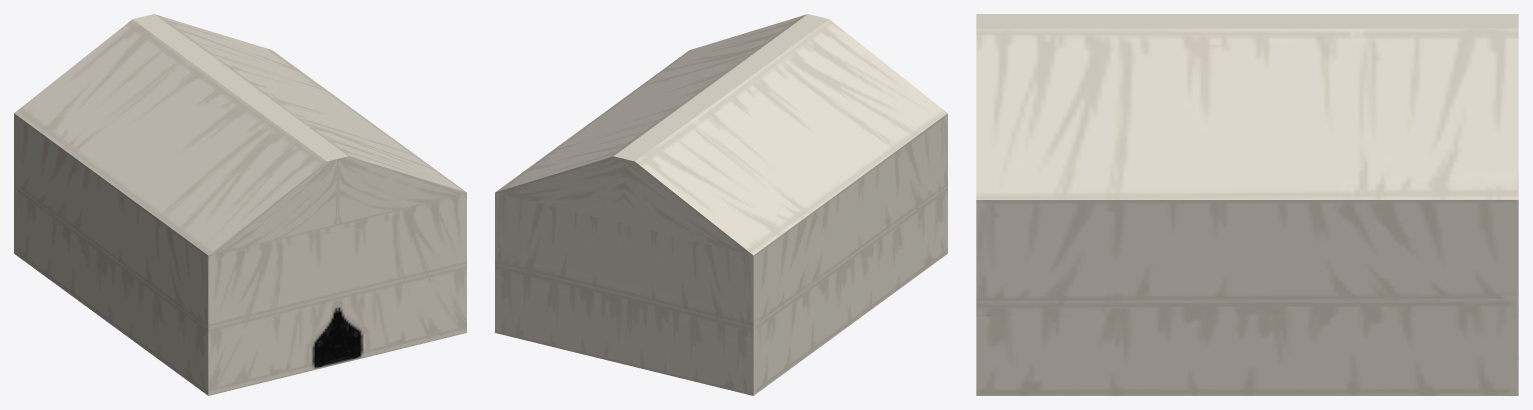
File: Tent.fbx
The picture shows the model from 3 angles, left to right: view 1: azimuth 30°, elevation 25°; view 2: azimuth 150°, elevation 25°; view 3: azimuth 270°, elevation 25°; orthographic projection. The views are drawn at different scales.
Parts seen in each view (by area): view 1: Tent; view 2: Tent; view 3: Tent.
Part boxes in pixels (x1,y1,x2,y2): Tent: (14,14,466,395); Tent: (495,14,947,395); Tent: (976,14,1518,395).
Size of what is drawn, in the model's own units: 8578 by 6517 by 11174.
Materials: 1 (1 with a texture image).
